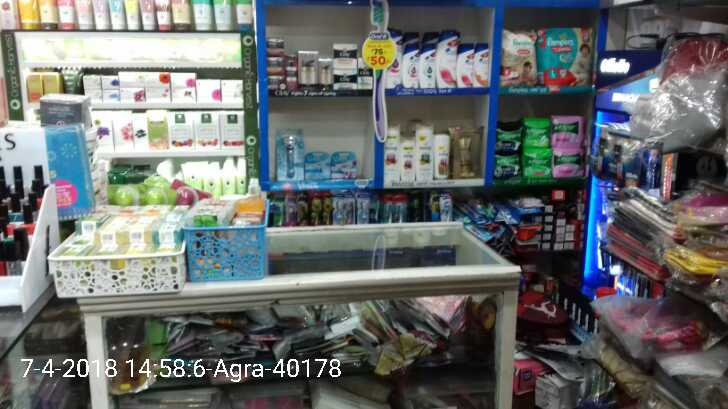gillete: (591, 138, 658, 189)
venus: (275, 128, 304, 181), (330, 150, 358, 178), (306, 150, 330, 178)
